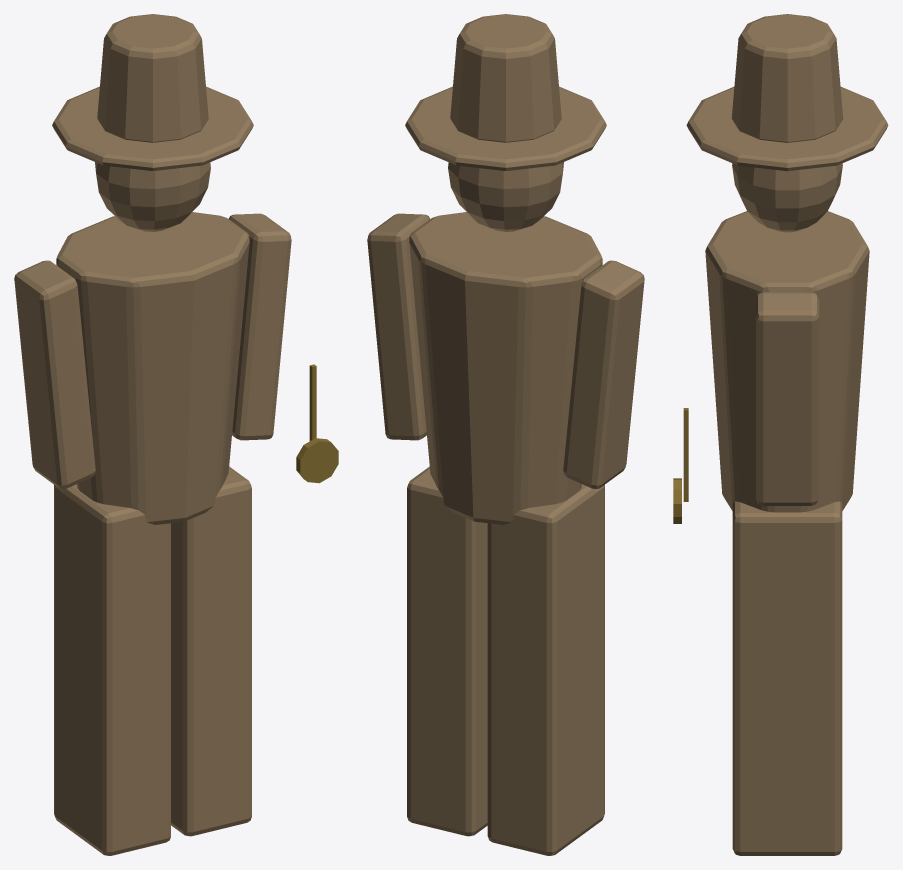
Rendered from chr-citizen-tall.glb.
3 renders of one model, left to right at view 1: azimuth 30°, elevation 25°; view 2: azimuth 150°, elevation 25°; view 3: azimuth 270°, elevation 25°, orthographic.
Parts seen in each view (by area): view 1: VIS_torso, VIS_leg_l, VIS_leg_r, VIS_arm_l, VIS_hat_crown, VIS_arm_r, VIS_hat_brim, VIS_head, VIS_acc_watch; view 2: VIS_torso, VIS_leg_l, VIS_leg_r, VIS_arm_l, VIS_hat_crown, VIS_arm_r, VIS_hat_brim, VIS_head; view 3: VIS_leg_r, VIS_torso, VIS_arm_r, VIS_hat_crown, VIS_hat_brim, VIS_head, VIS_acc_chain.
Boxes of the visible parts, x1,y1,x2,y2 form: VIS_torso: (56,212,249,524); VIS_leg_l: (54,484,170,855); VIS_leg_r: (171,466,251,836); VIS_arm_l: (14,260,95,488); VIS_hat_crown: (97,14,208,142); VIS_arm_r: (229,213,291,440); VIS_hat_brim: (52,86,253,170); VIS_head: (95,162,210,231); VIS_acc_watch: (296,438,338,483); VIS_torso: (409,212,602,524); VIS_leg_l: (487,484,604,855); VIS_leg_r: (407,466,487,836); VIS_arm_l: (563,260,644,488); VIS_hat_crown: (450,14,561,142); VIS_arm_r: (367,213,429,440); VIS_hat_brim: (405,86,606,170); VIS_head: (448,162,563,231); VIS_leg_r: (732,501,842,855); VIS_torso: (705,211,869,512); VIS_arm_r: (756,292,819,505); VIS_hat_crown: (731,14,843,142); VIS_hat_brim: (686,87,888,171); VIS_head: (732,163,842,232); VIS_acc_chain: (683,408,688,501).
Bounding box in the file's own units: 0.6967 × 2.07 × 0.5092.
